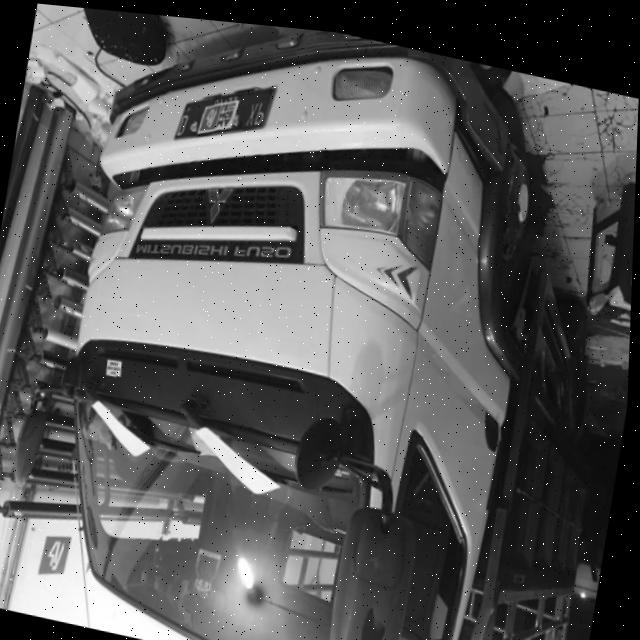truck: (5, 3, 610, 640)
